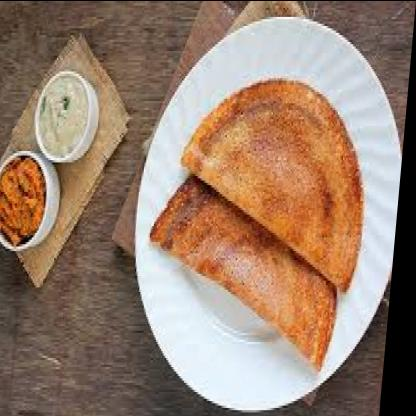dosa: (175, 78, 375, 294), (146, 171, 352, 372)
